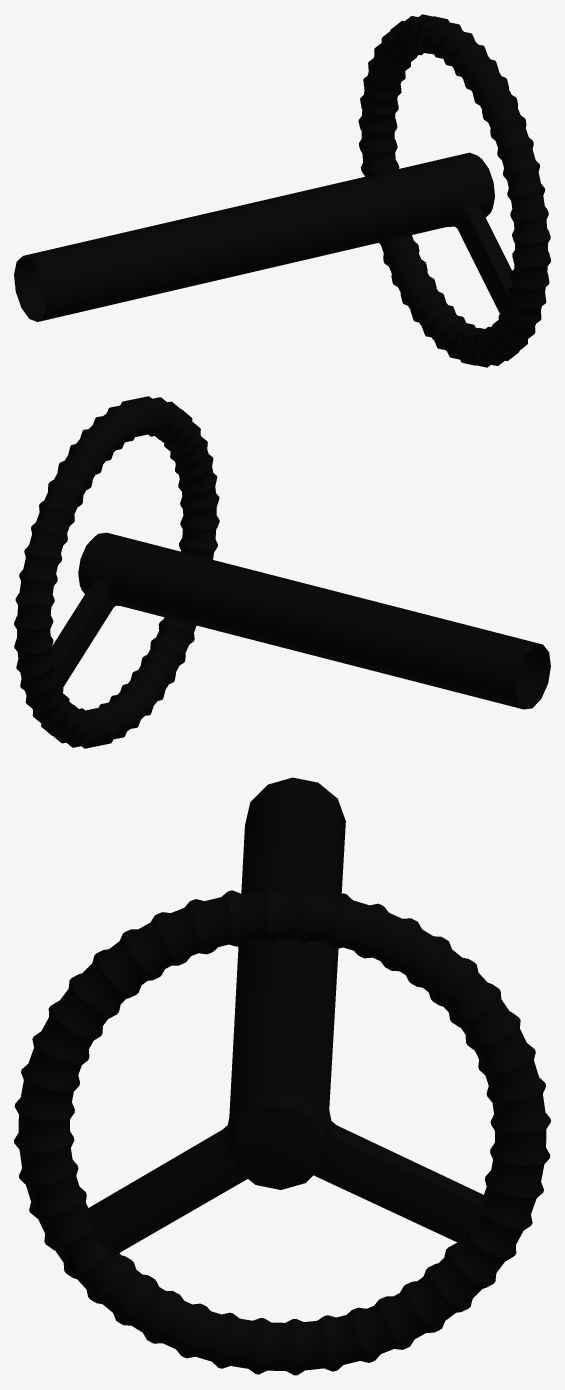
The picture shows the model from 3 angles, top to bottom: view 1: azimuth 30°, elevation 25°; view 2: azimuth 150°, elevation 25°; view 3: azimuth 270°, elevation 25°; orthographic projection. The views are drawn at different scales.
Parts seen in each view (by area): view 1: SM_CR03_SW_LOD0; view 2: SM_CR03_SW_LOD0; view 3: SM_CR03_SW_LOD0.
Part boxes in pixels (x1,y1,x2,y2): SM_CR03_SW_LOD0: (14, 14, 550, 367); SM_CR03_SW_LOD0: (14, 396, 550, 748); SM_CR03_SW_LOD0: (14, 777, 550, 1375).
Size of the model in its own units: 53.82 by 37.61 by 37.62.
1 material, 1 textured.
